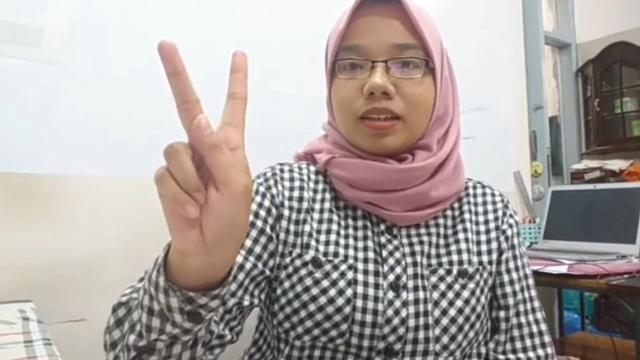K: (150, 38, 254, 266)
